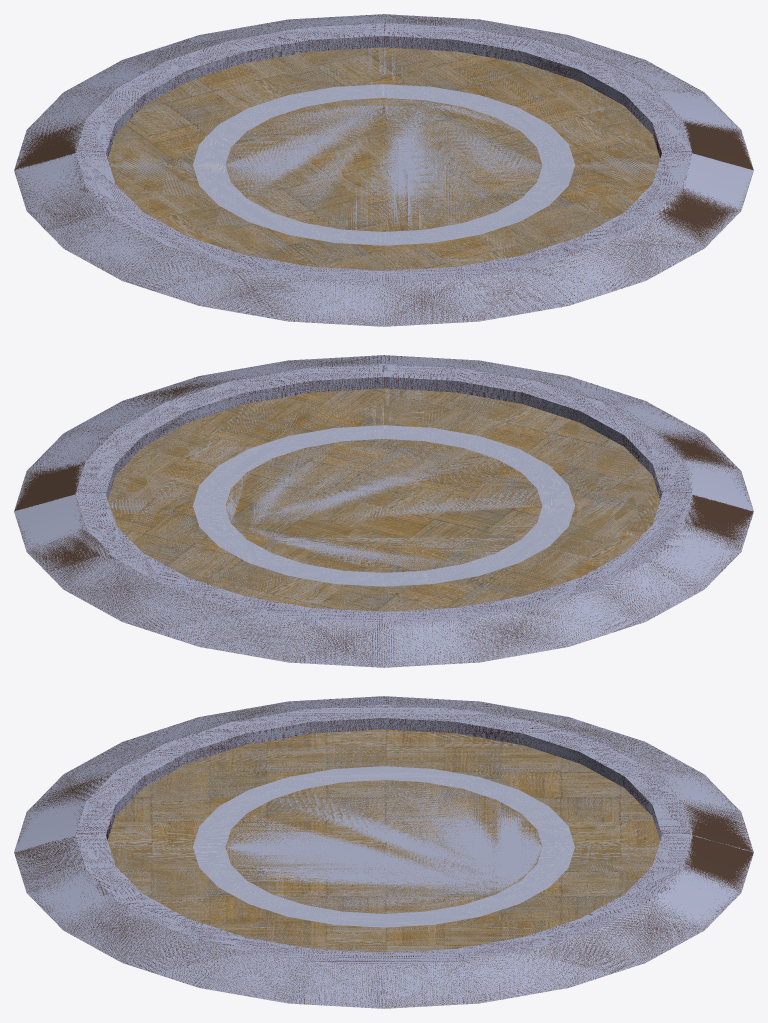
The model's file is NinjaPad.fbx.
3 views of the same model, one above another, from view 1: azimuth 30°, elevation 25°; view 2: azimuth 150°, elevation 25°; view 3: azimuth 270°, elevation 25° (orthographic).
Visible parts, largest first — view 1: Model; view 2: Model; view 3: Model.
Boxes of the visible parts, box(x1,y1,x2,y2) form: Model: box(14, 14, 753, 326); Model: box(14, 355, 753, 667); Model: box(14, 696, 753, 1008).
Bounding box in the file's own units: 75.79 × 1.93 × 75.79.
